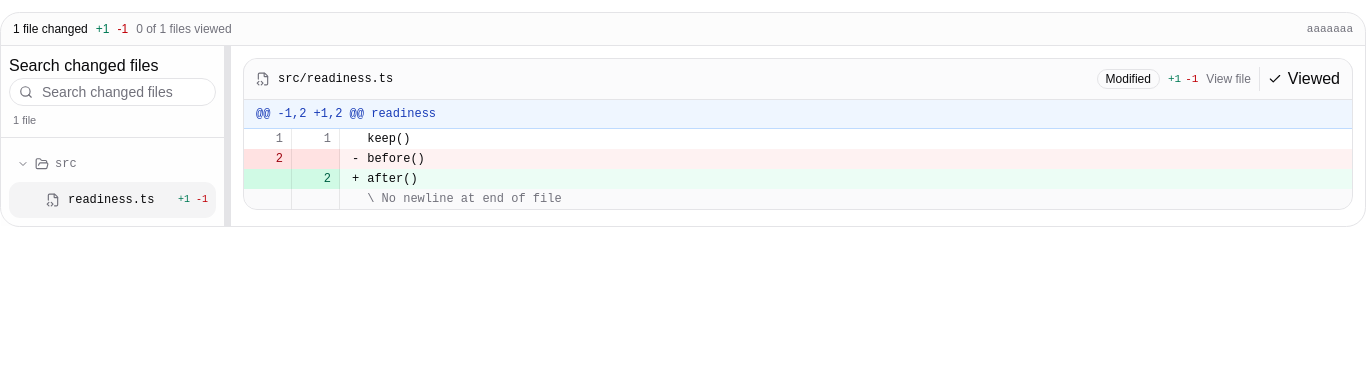
Test case: PullDiff › uses Codex terminology for gutter labels, the composer, and accepted feedback
Click the button named "Give Codex feedback on new line 2": (316, 179) [292, 169, 340, 189]
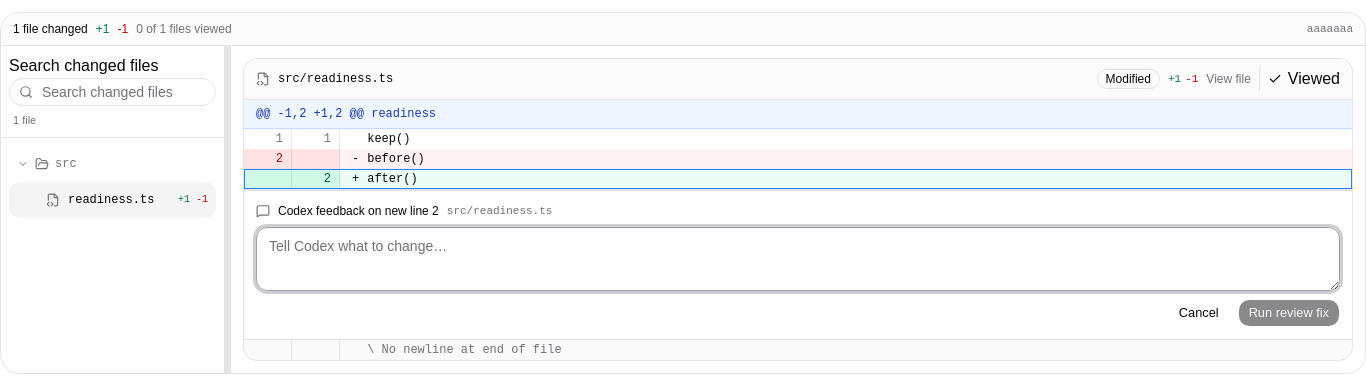
In the text box labelled "Codex feedback on new line 2": (798, 259) [256, 227, 1340, 291], type "Apply this with Codex."
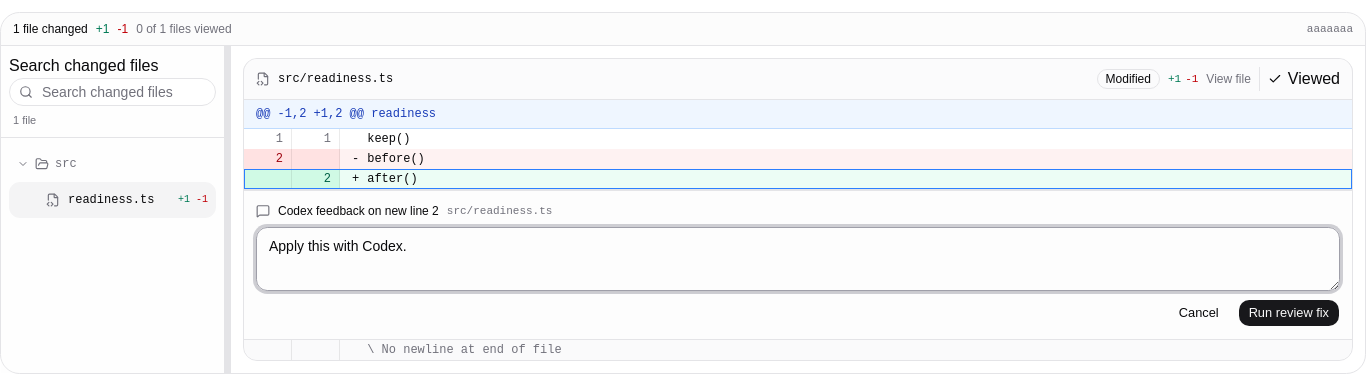
Click the button "Run review fix": (1289, 313) [1238, 299, 1340, 327]
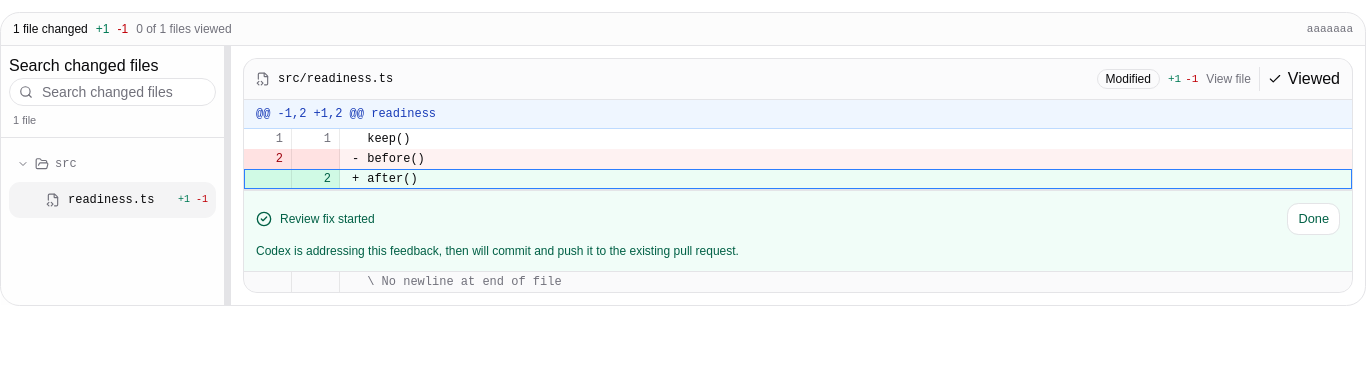
Expected: the text "Codex is addressing this feedback, then will commit and push it to the existing pull request." is shown, [256, 244, 739, 258]
